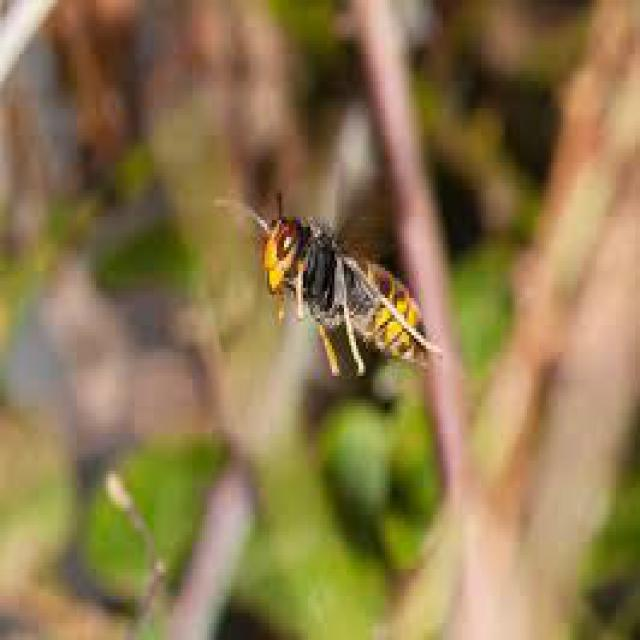Vespa Velutina: (204, 149, 449, 391)
